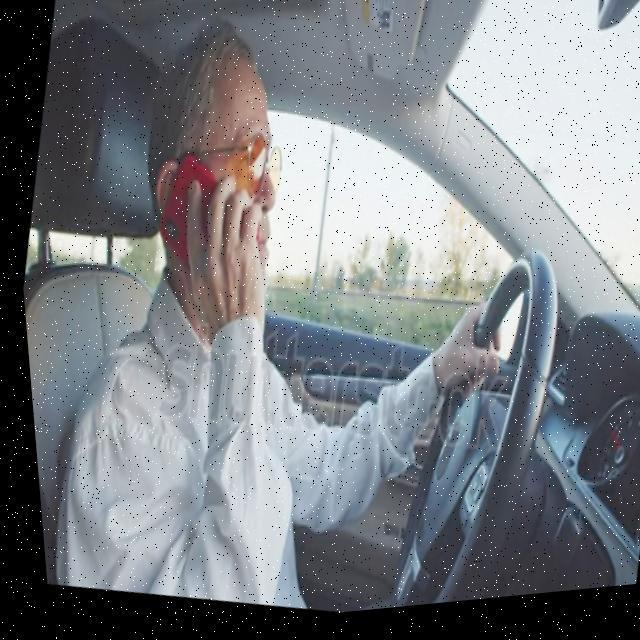PhoneCall: (142, 146, 273, 308)
